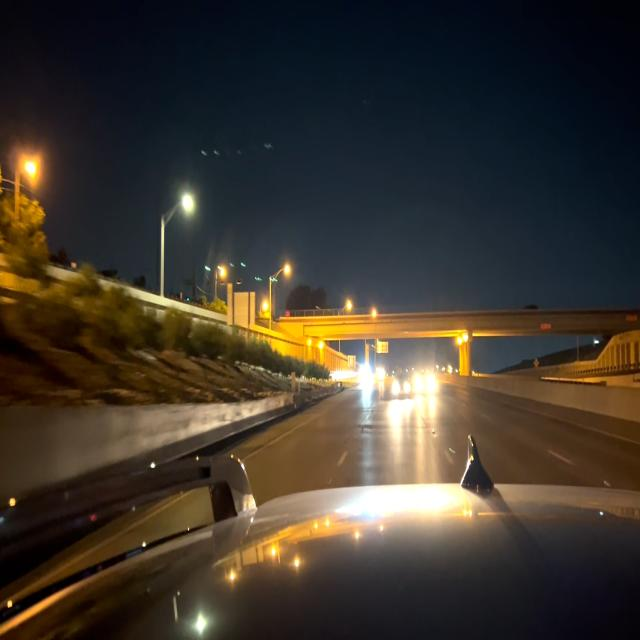back-of-sign: (227, 292, 255, 325), (228, 283, 233, 292)
